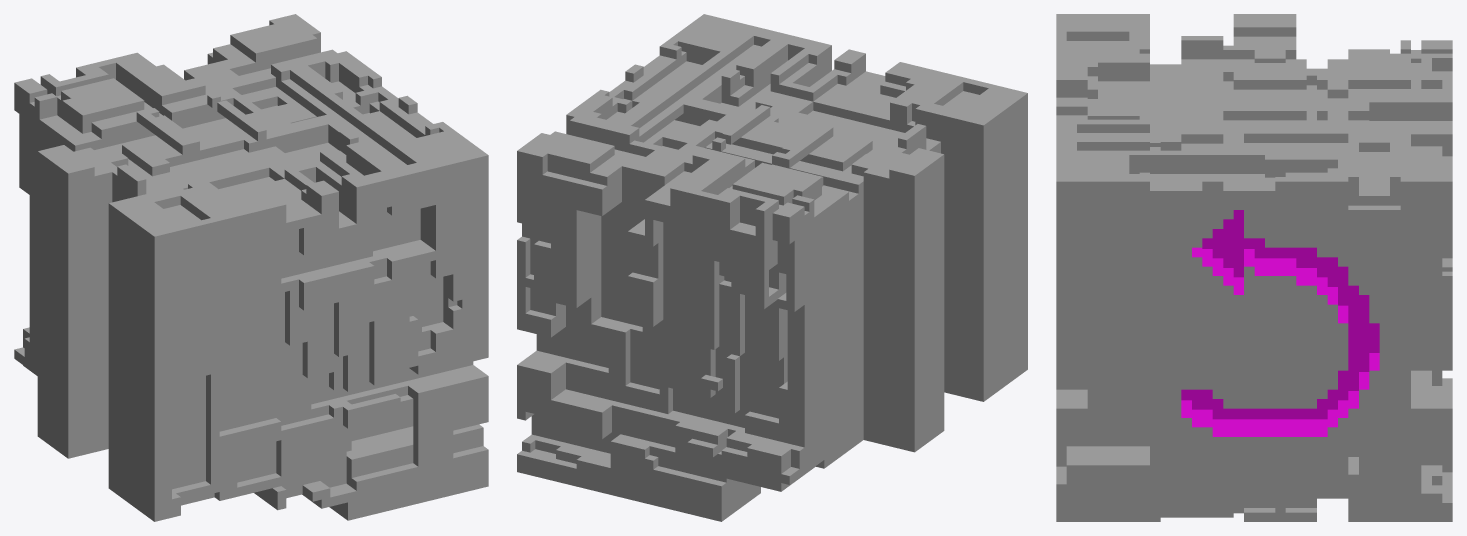
File: btn-return.fbx
3 renders of one model, left to right at view 1: azimuth 30°, elevation 25°; view 2: azimuth 150°, elevation 25°; view 3: azimuth 270°, elevation 25°, orthographic. The views are drawn at different scales.
Visible parts, largest first — view 1: btn_Return:Mesh; view 2: btn_Return:Mesh; view 3: btn_Return:Mesh.
Part boxes in pixels (x1,y1,x2,y2): btn_Return:Mesh: (14, 14, 488, 521); btn_Return:Mesh: (517, 14, 1027, 521); btn_Return:Mesh: (1056, 14, 1452, 521).
Size of the model in its own units: 3.8 by 3.6 by 3.8.
